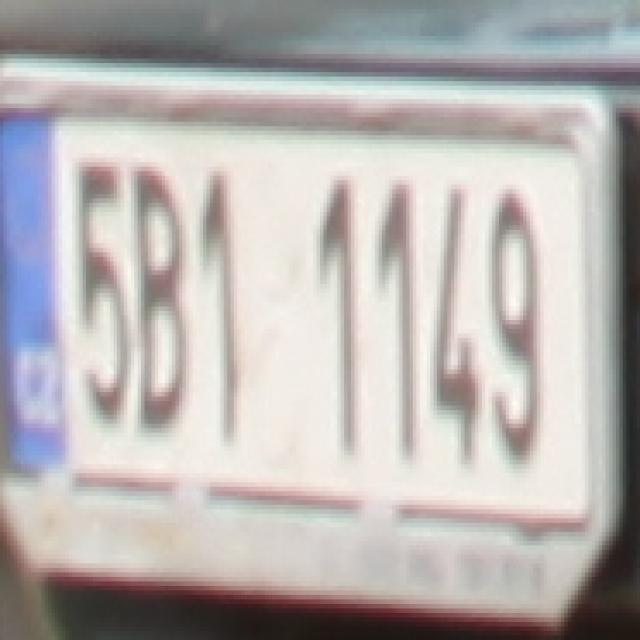1: (189, 162, 248, 446), (372, 166, 423, 468), (313, 162, 361, 451)
4: (427, 172, 485, 474)
5: (69, 153, 127, 424)
9: (489, 180, 547, 464)
B: (124, 162, 193, 433)
